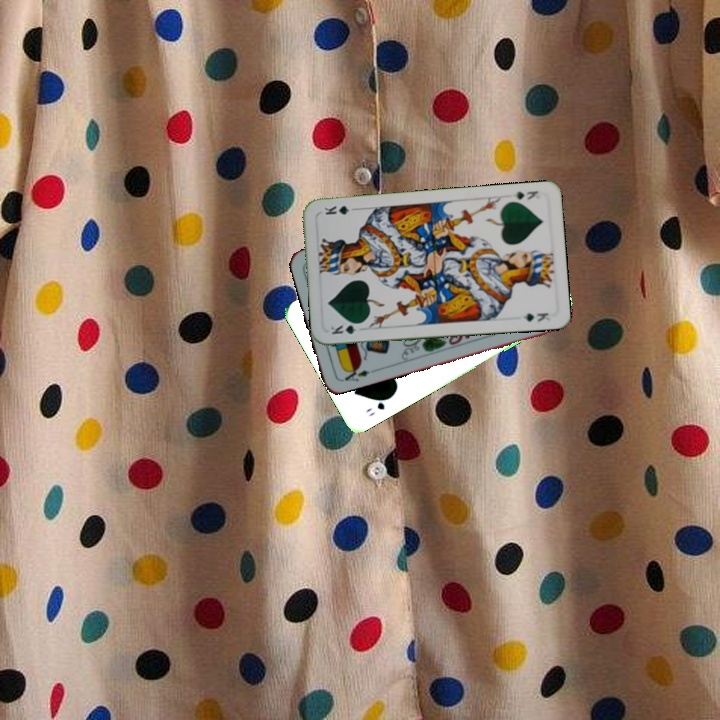EA: (337, 362, 372, 384)
GK: (327, 319, 365, 337), (509, 187, 541, 202)
GO: (361, 393, 394, 419)
